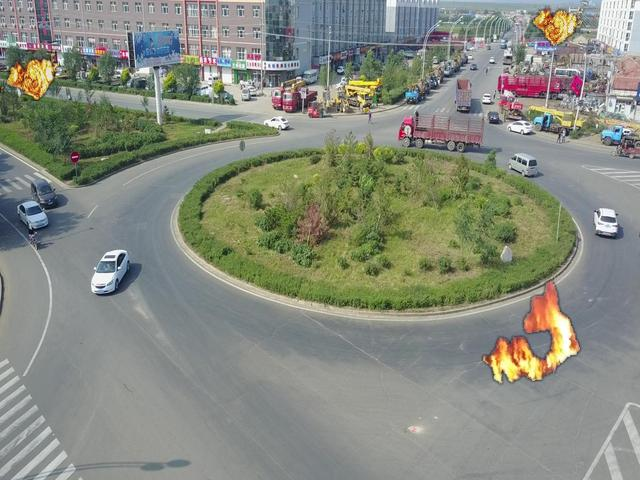fire: (483, 280, 580, 385), (1, 42, 58, 99), (524, 1, 588, 46)
